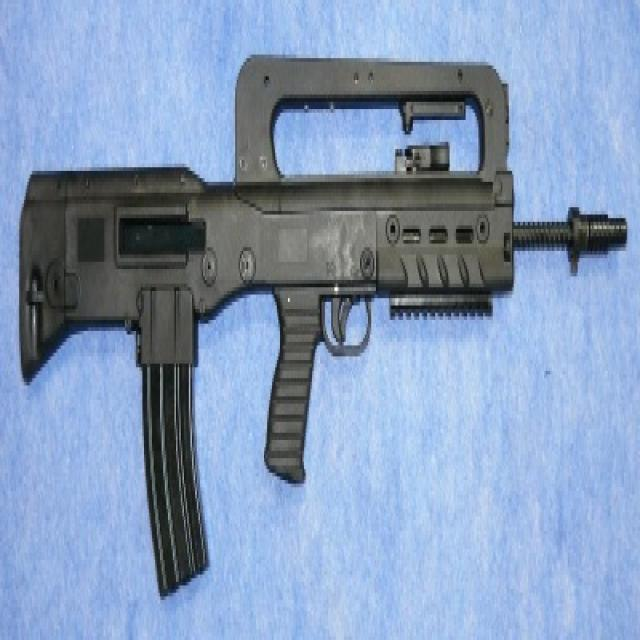rifle: (16, 31, 633, 614)
